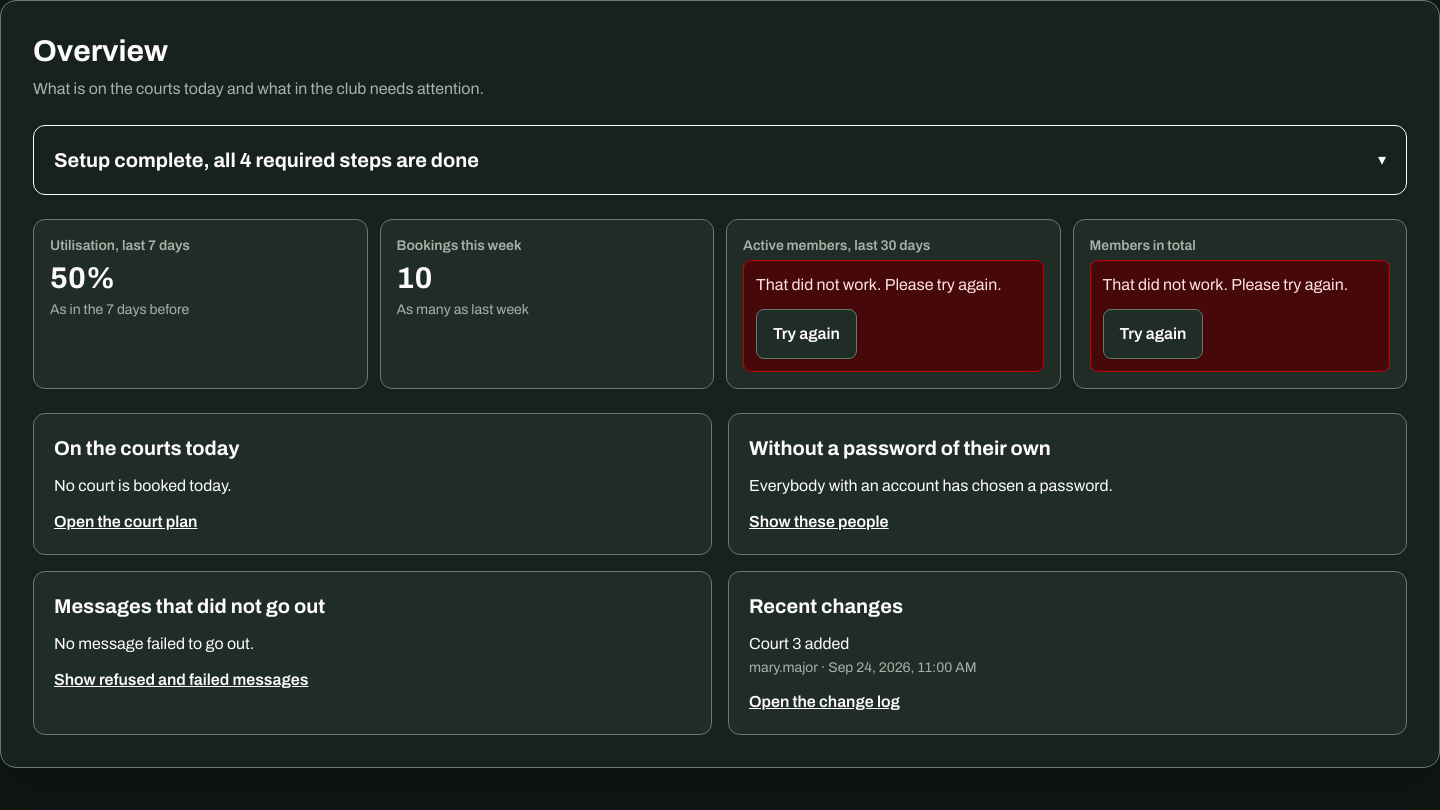
it: AdminOverviewView › given the member figures cannot be read, when the overview opens, then only they report it and a retry repeats only their read
Check: the message with test id "load-failure" below "Active members, last 30 days" shows "That did not work. Please try again.", box [756,276,1002,293]
Check: the message with test id "load-failure" below "Members in total" is shown, box [1090,260,1390,372]
Click the button with test id "retry-load" at (806, 334), box [756,309,857,359]
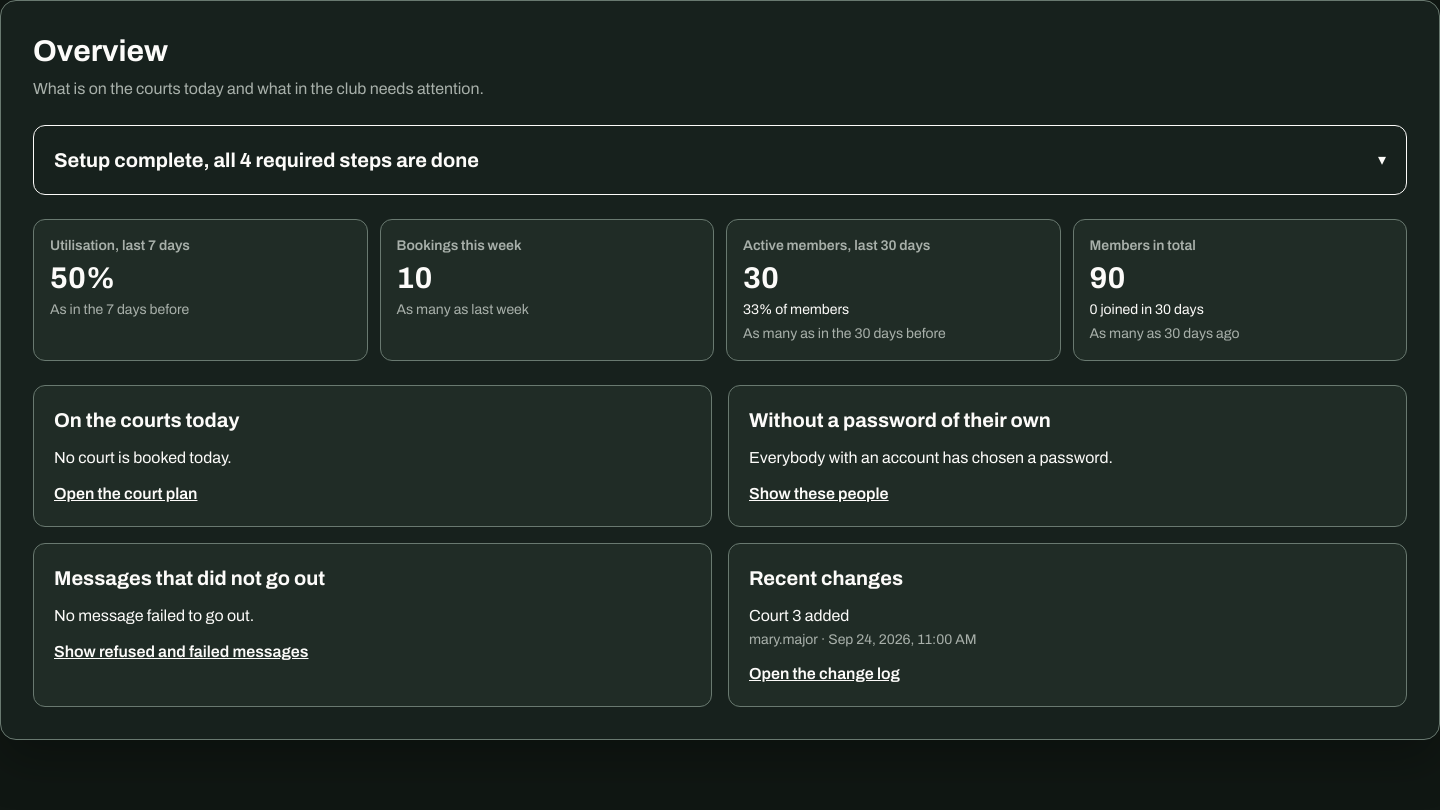
Check: the text with test id "overview-figure-active-value" reads "30", box [743,262,779,294]
Check: the message with test id "load-failure" is gone
